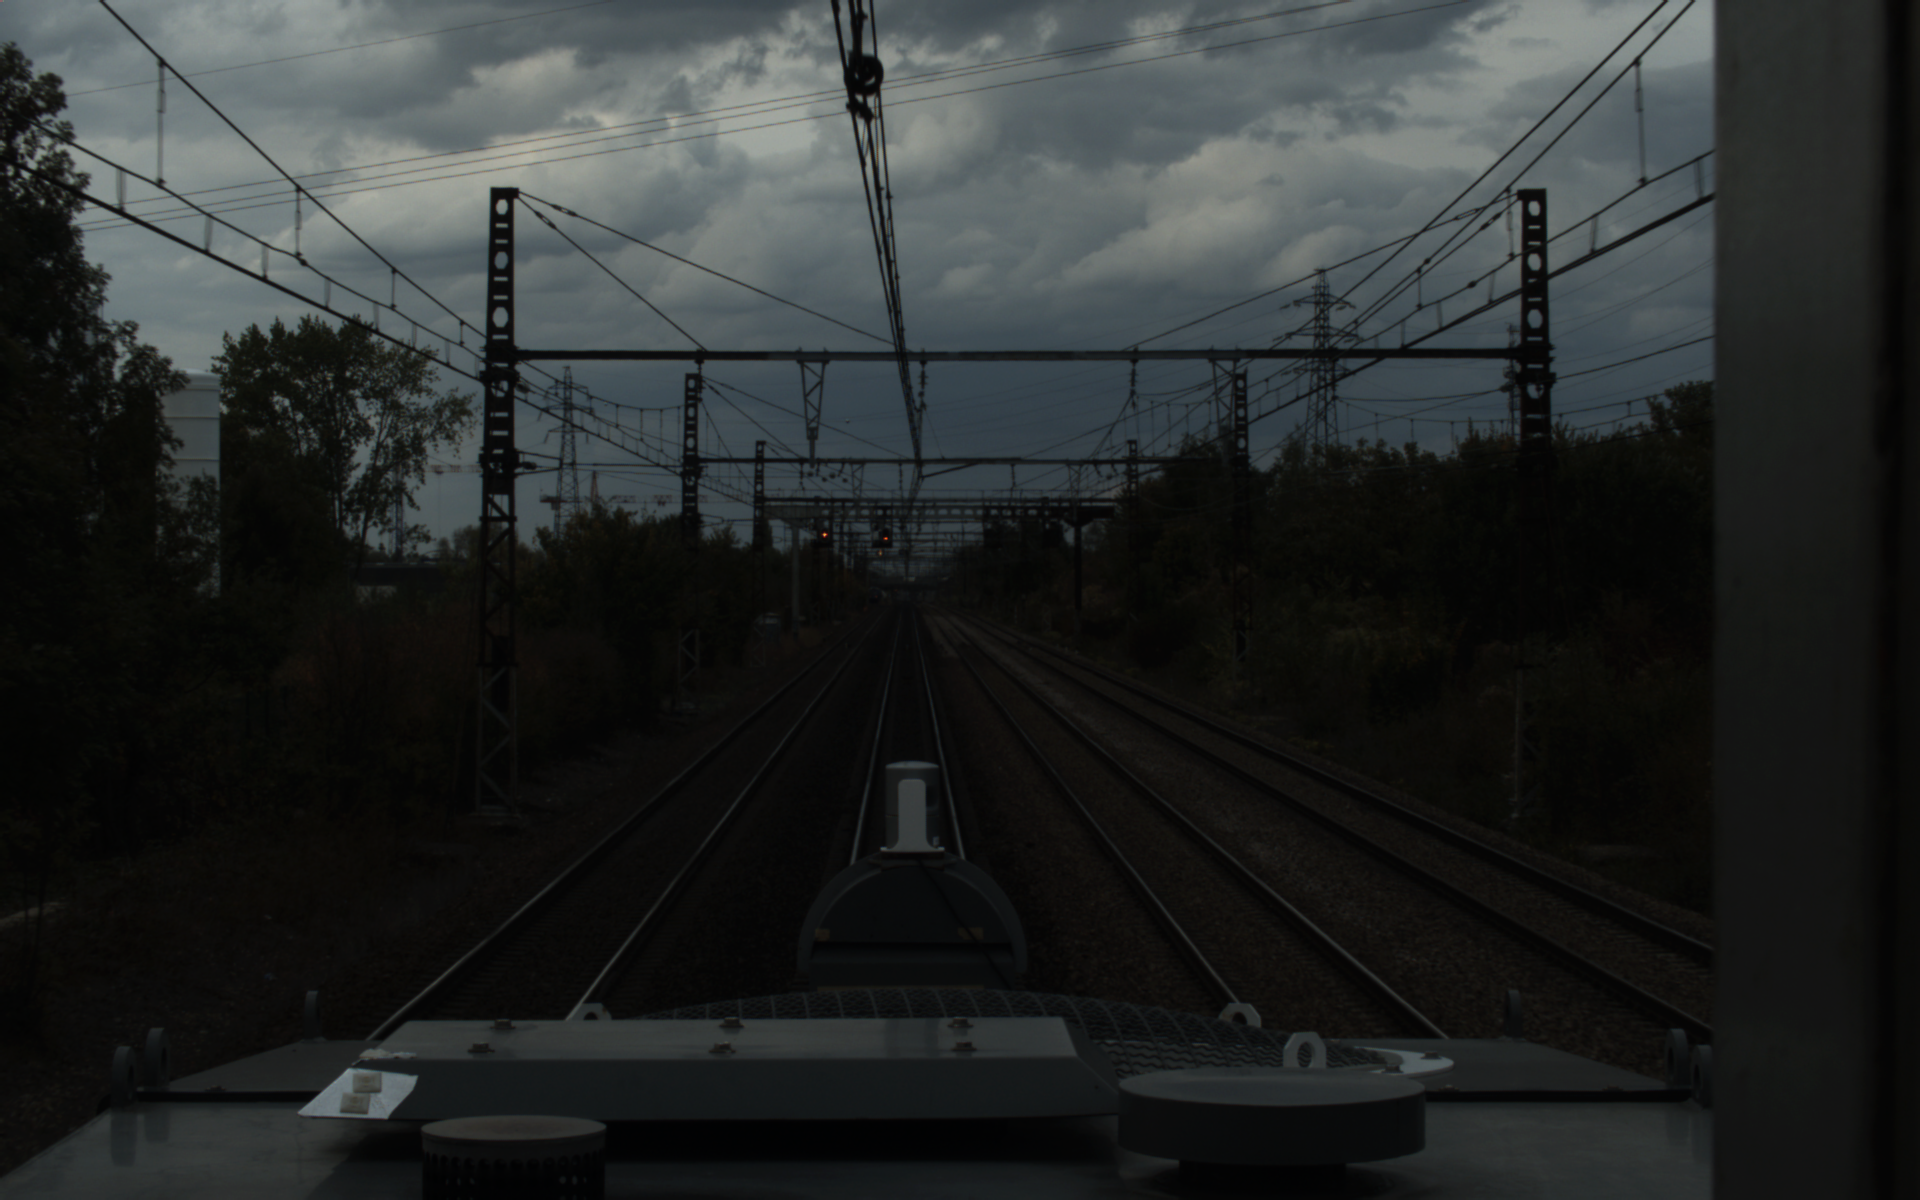Blinking: (879, 525, 892, 543)
Fixed: (817, 525, 831, 542)
